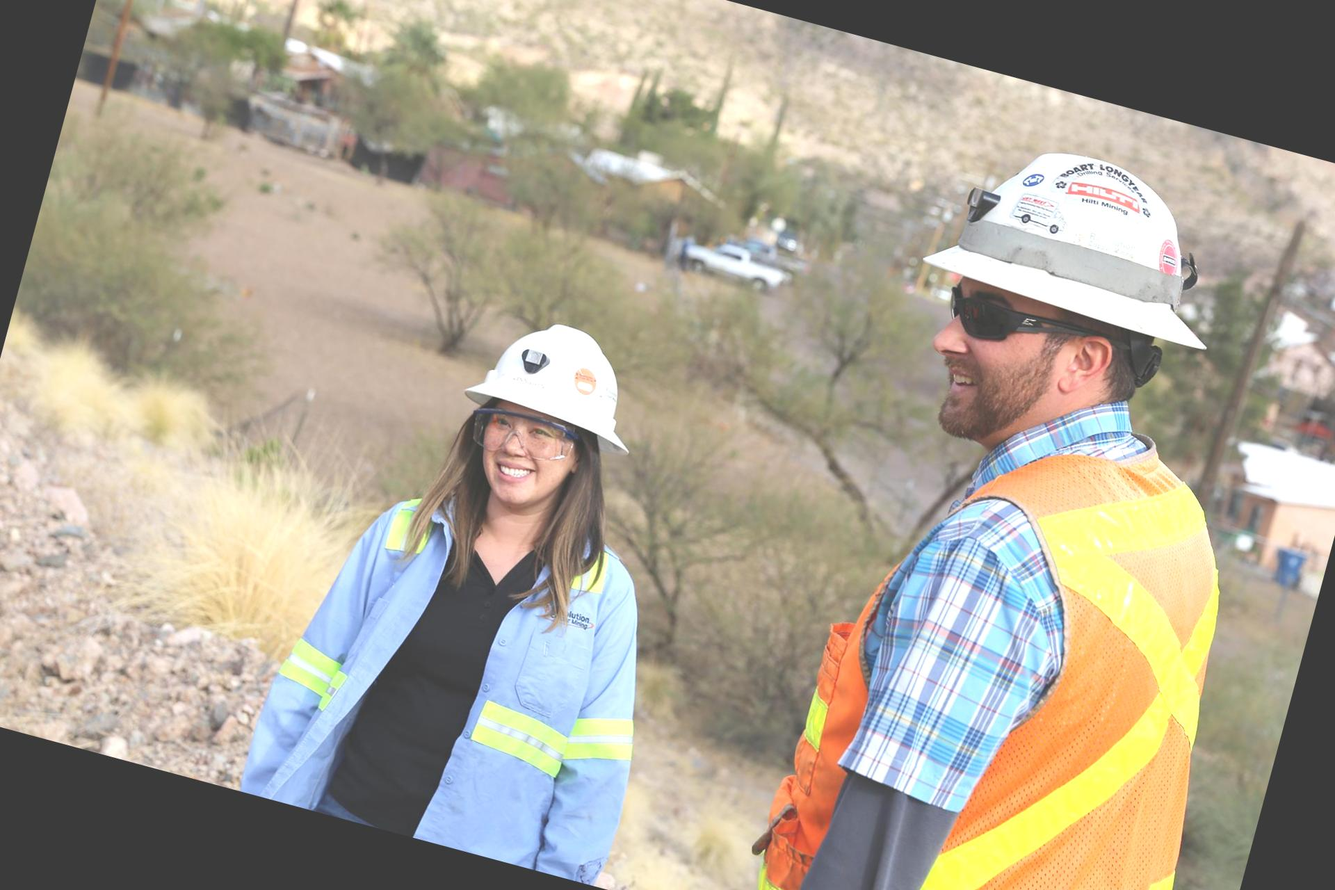helmet: (915, 112, 1280, 378), (445, 289, 673, 472)
no_vest: (281, 486, 683, 885)
person: (721, 103, 1335, 890), (242, 257, 739, 887)
